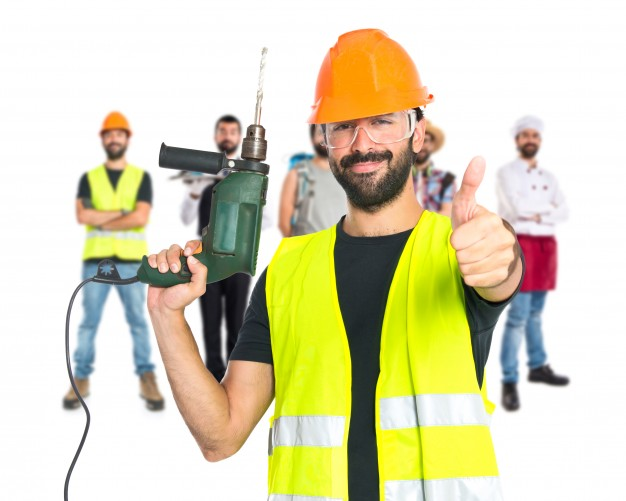thumbsup: (450, 156, 516, 287)
